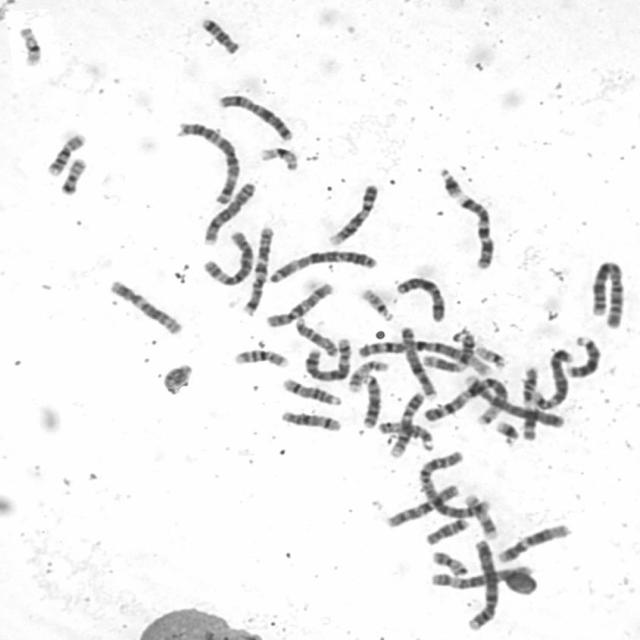A1: (354, 335, 492, 376), (421, 374, 511, 424)
A2: (417, 449, 492, 519), (586, 258, 625, 331)
A3: (172, 118, 242, 206), (265, 247, 380, 284)
B4: (463, 374, 567, 429), (462, 538, 500, 631)
B5: (522, 346, 575, 410), (300, 334, 354, 382)
C10: (380, 481, 461, 529), (263, 280, 335, 329)
C11: (420, 330, 478, 374), (520, 366, 539, 441)
C12: (106, 276, 185, 336), (495, 521, 572, 565)
C6: (426, 562, 538, 594), (199, 228, 255, 287)
C7: (240, 224, 276, 318), (455, 191, 496, 271)
C8: (200, 178, 258, 247), (399, 324, 439, 400)
C9: (324, 181, 381, 248), (386, 388, 425, 458)
D13: (564, 332, 602, 378), (358, 372, 382, 429)
D14: (279, 375, 344, 407), (277, 408, 344, 433)
D15: (375, 418, 435, 452), (292, 315, 338, 359)
E16: (44, 131, 88, 177), (231, 346, 290, 370)
E17: (462, 492, 498, 541), (344, 358, 389, 394)
E18: (198, 15, 242, 56), (423, 516, 471, 546)
F19: (257, 144, 300, 173), (15, 24, 44, 67)
F20: (428, 548, 469, 578), (58, 156, 88, 195)
G21: (436, 165, 464, 200), (493, 418, 521, 446)
G22: (358, 285, 396, 322), (473, 343, 508, 369)
X: (214, 90, 296, 143), (394, 276, 446, 323)
